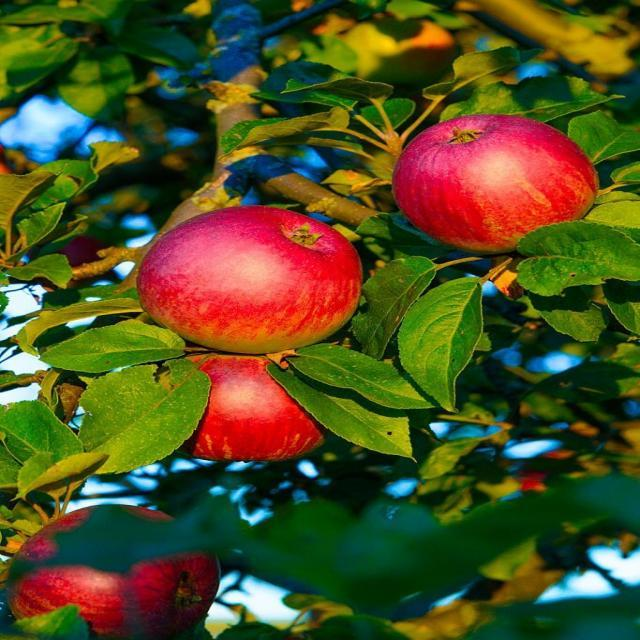Red Apple: (150, 203, 361, 349), (405, 114, 605, 253), (22, 507, 222, 626), (156, 344, 336, 458)
